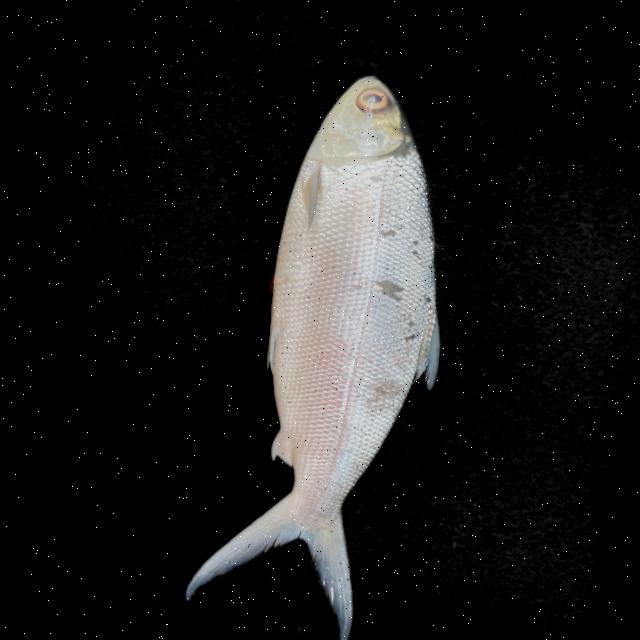1000 g: (180, 58, 495, 640)
